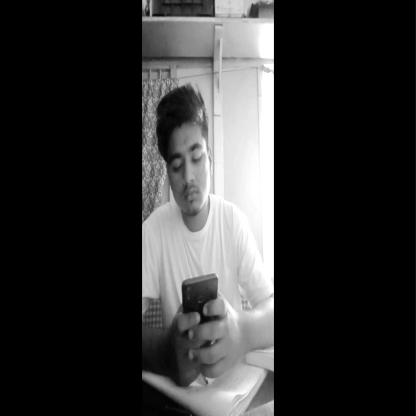Normal: (154, 86, 219, 224)
